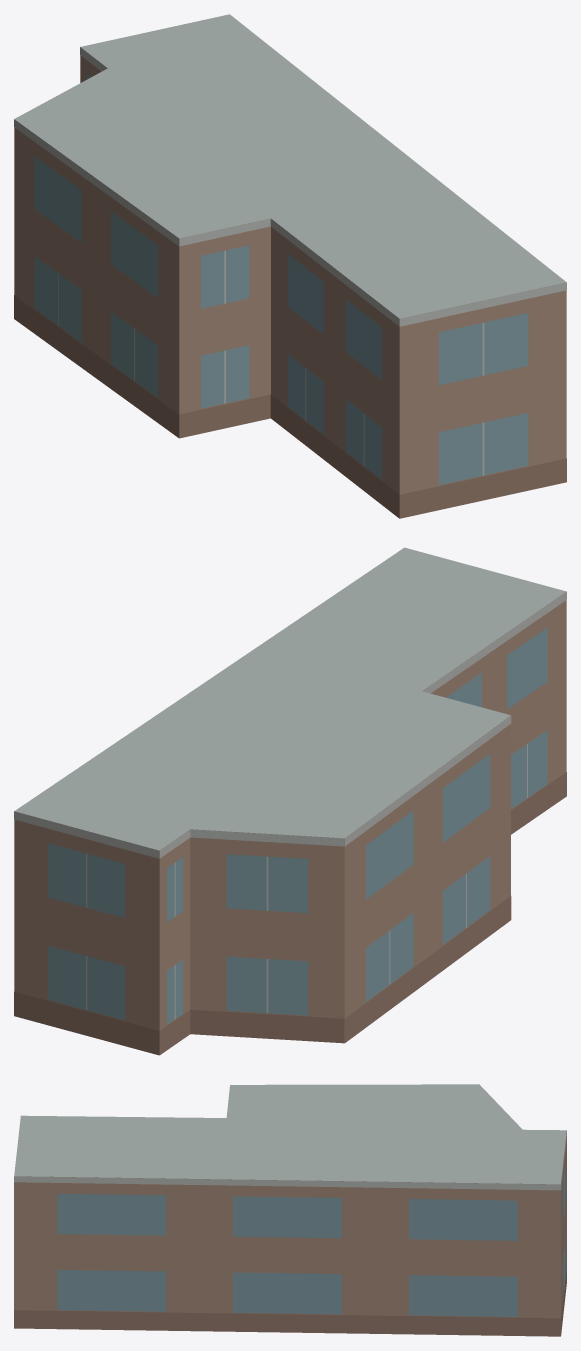
Rendered from survey-upis-32908948.glb.
3 renders of one model, top to bottom at view 1: azimuth 30°, elevation 25°; view 2: azimuth 150°, elevation 25°; view 3: azimuth 270°, elevation 25°, orthographic. The views are drawn at different scales.
Parts seen in each view (by area): view 1: survey-upis-32908948.tmp; view 2: survey-upis-32908948.tmp; view 3: survey-upis-32908948.tmp.
Part boxes in pixels (left/top/right/bottom): survey-upis-32908948.tmp: left=14, top=14, right=566, bottom=518; survey-upis-32908948.tmp: left=14, top=547, right=566, bottom=1055; survey-upis-32908948.tmp: left=14, top=1084, right=566, bottom=1336.
Bounding box in the file's own units: 8.61 × 6.1 × 20.08.
